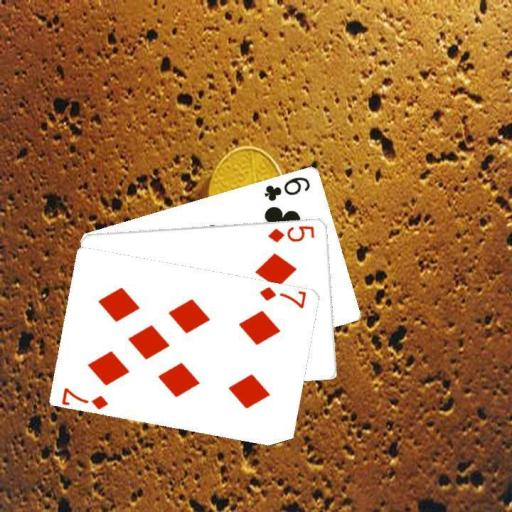card-corner: (261, 172, 312, 202), (59, 384, 110, 410), (257, 284, 307, 310), (265, 222, 316, 244)
